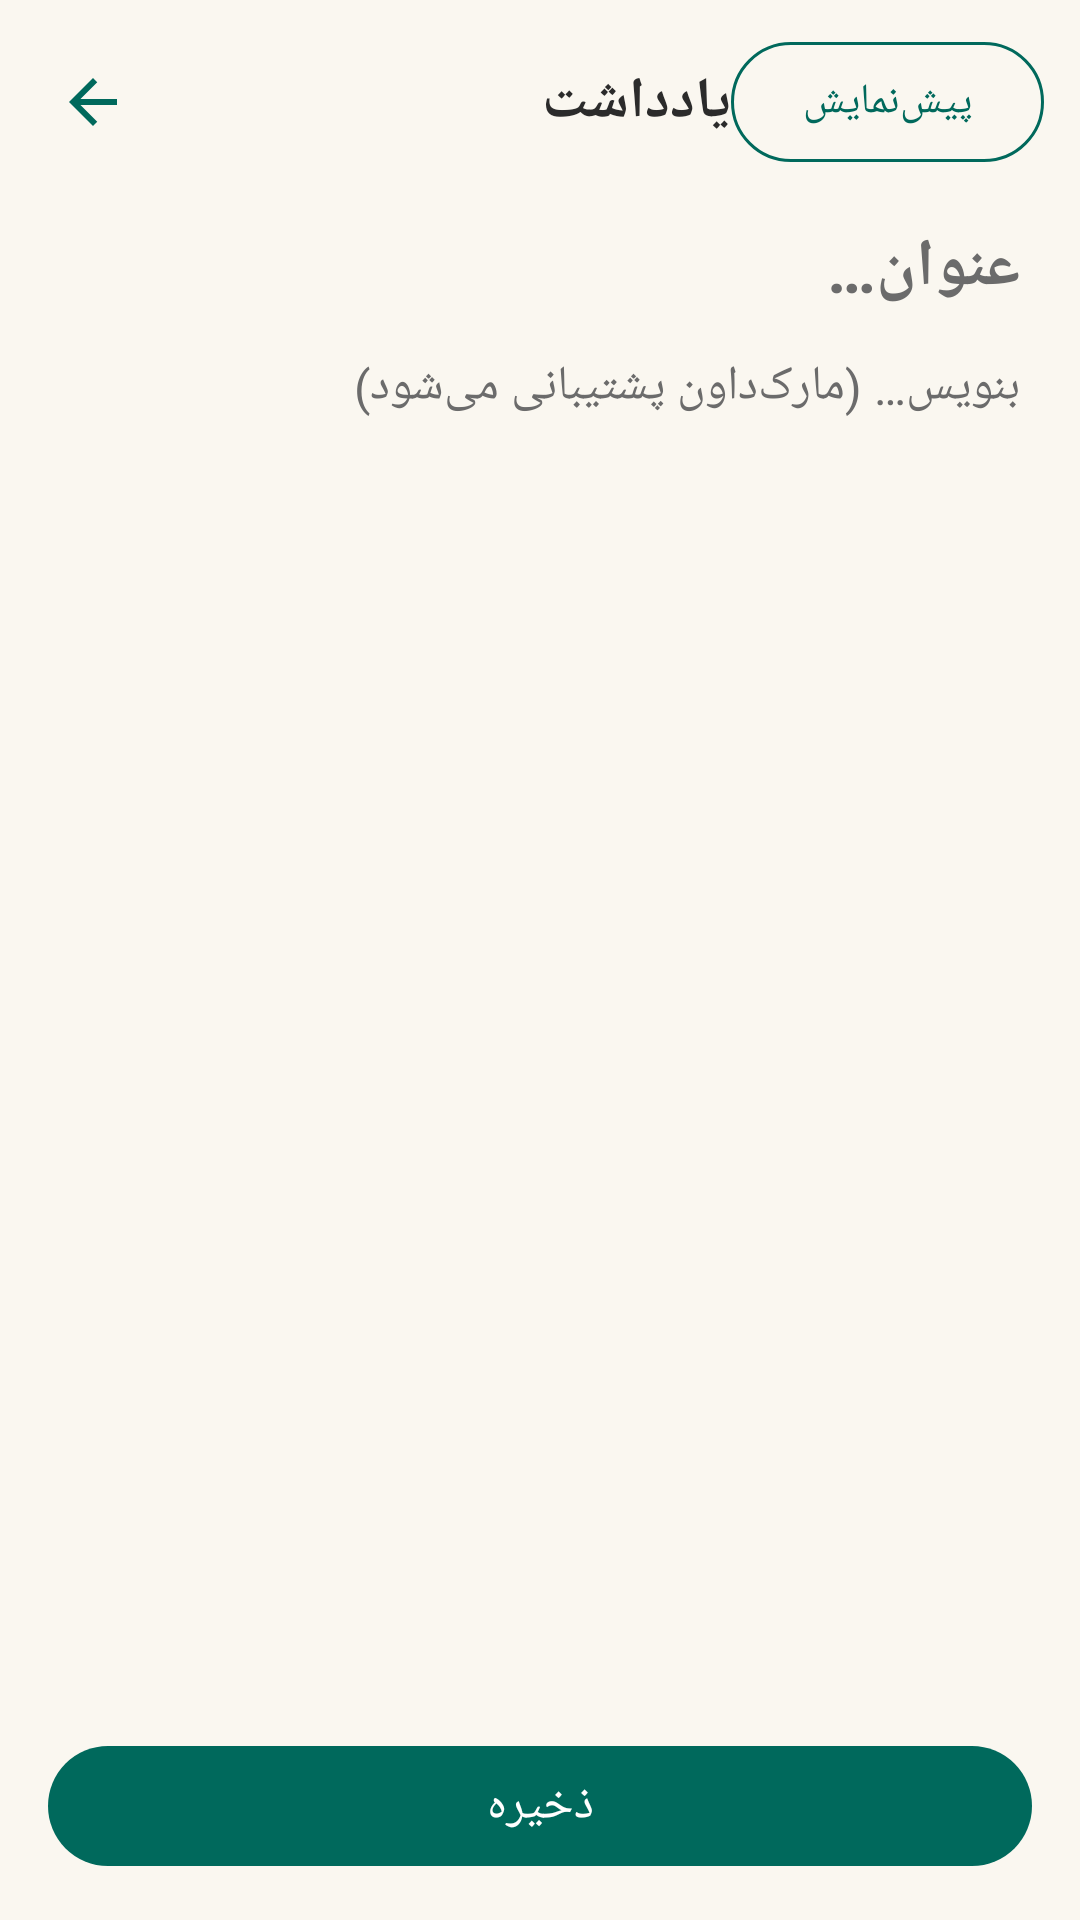

Locate icon controls on the screen. Image size 1080*1920, boxes as rect(x1, y1, x2, y2).
بازگشت: rect(69, 78, 117, 126)
